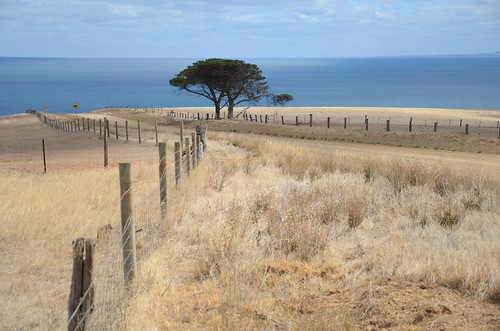grass: (1, 114, 490, 331)
road: (100, 109, 500, 183)
sea: (1, 53, 492, 121)
sky: (1, 1, 500, 50)
tree: (175, 55, 289, 115)
